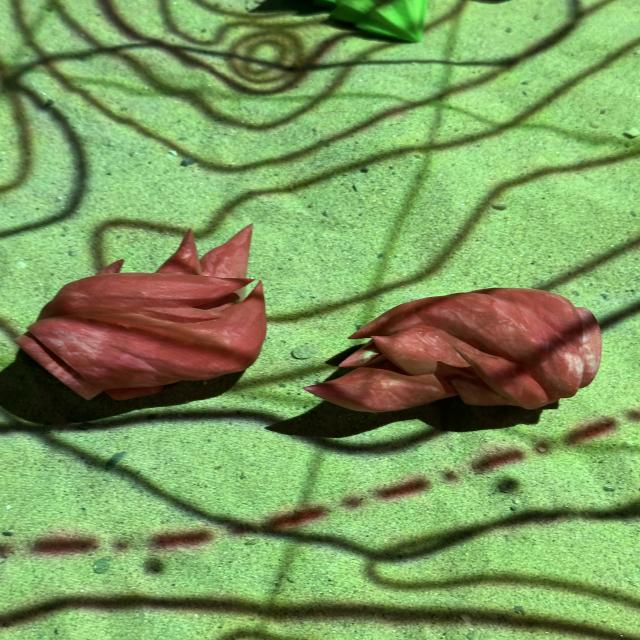fire: (14, 223, 268, 403), (302, 286, 603, 414)
